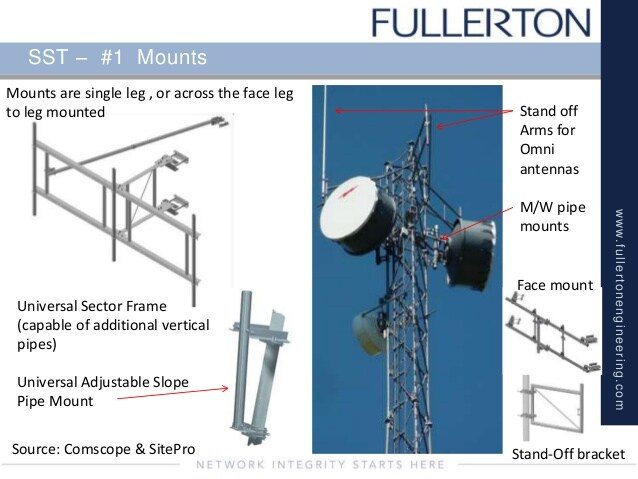ba: (319, 159, 393, 271), (439, 204, 498, 303), (345, 303, 388, 353)
